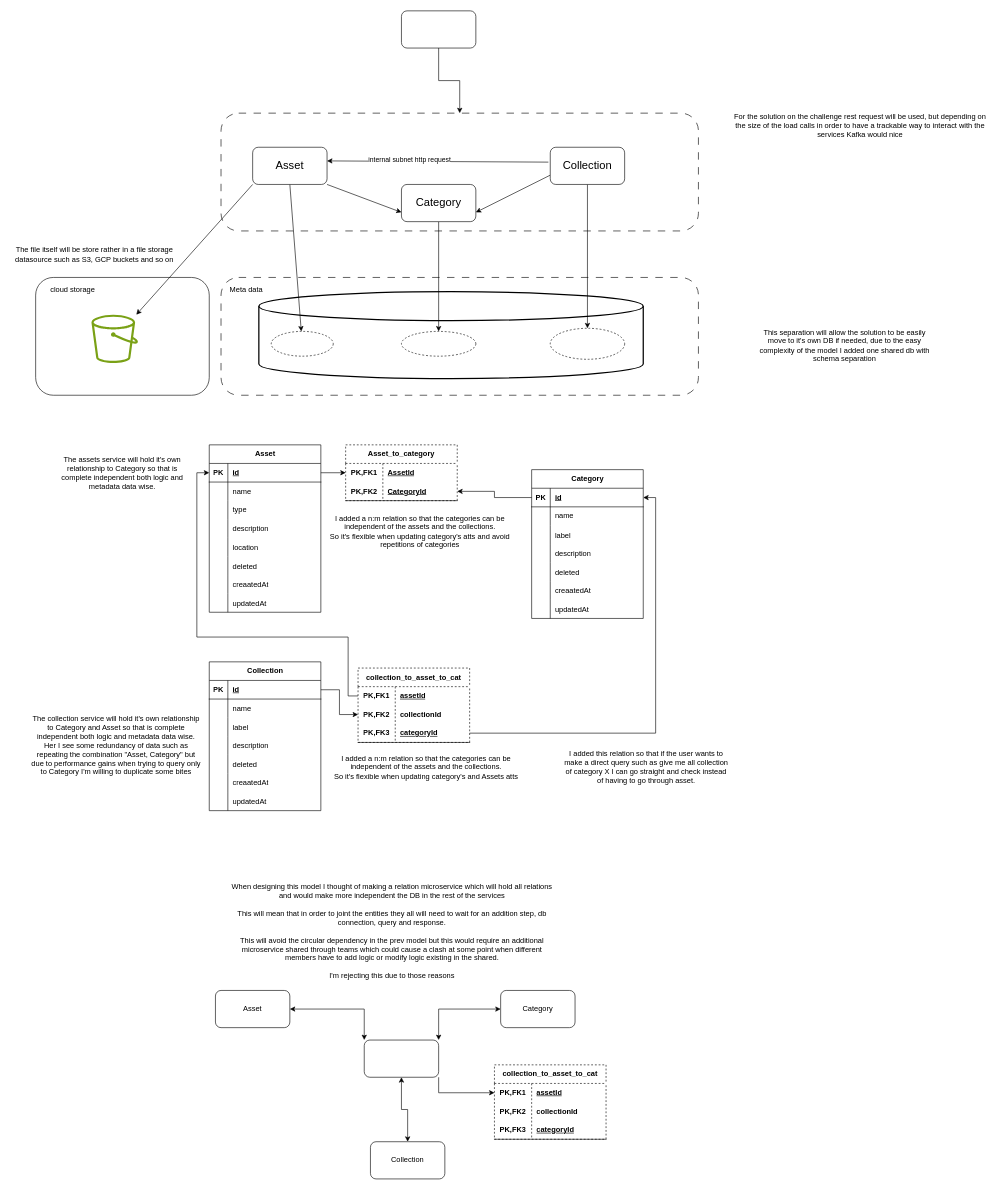
The diagram is 1001 pixels wide and 1190 high, and some of its shapes have lost their labels. Here are the shapes that lost their labels. From the top down, the centre of each, then its label:
the point at 438,29: Load balancer
the point at 302,343: Asset_Schema
the point at 438,343: Category_Schema
the point at 587,343: Collection_Schema
the point at 401,1058: Relations_handler
